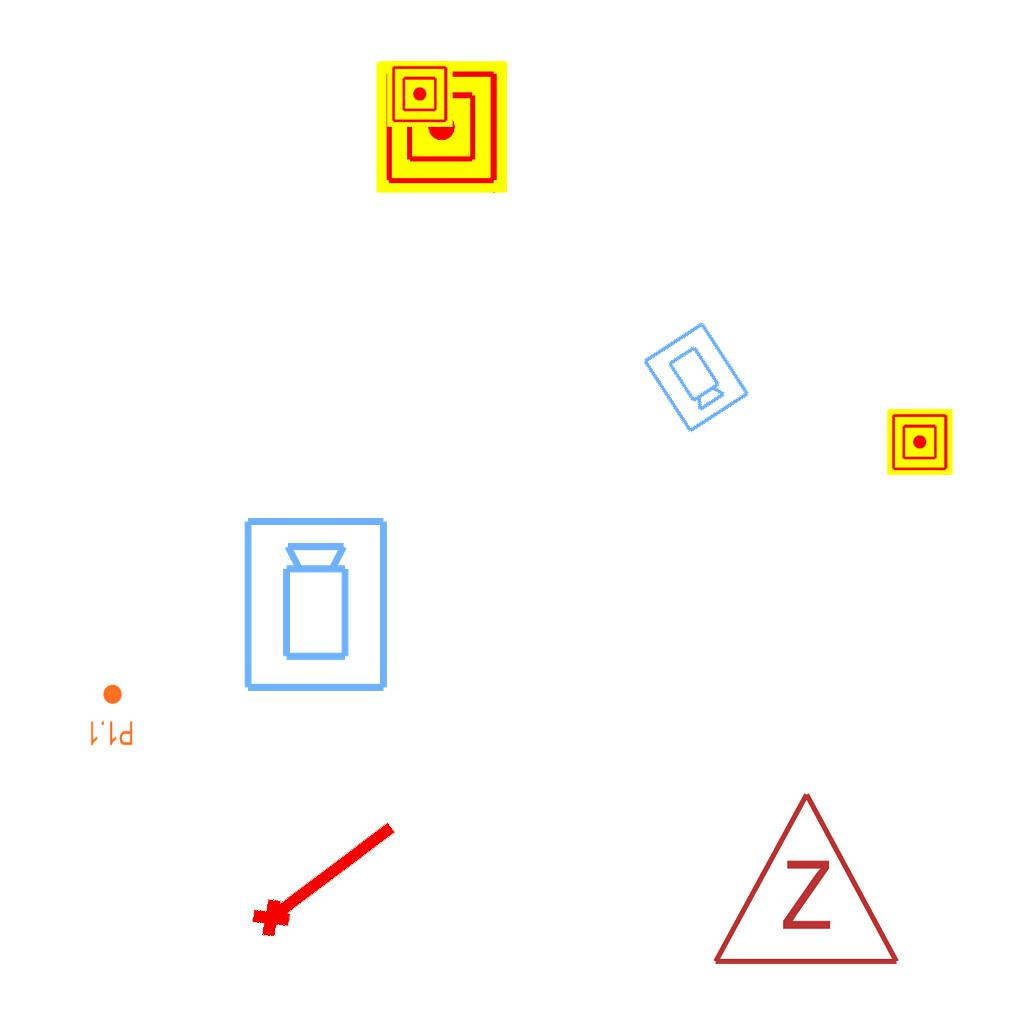ASR_Ansaugoeffnung: (239, 803, 409, 947)
Downlight_LED_Einbauleuchten_Flur: (88, 683, 134, 747)
KFO_Kamera_mit_Festobjektiv: (240, 514, 394, 696), (638, 318, 753, 437)
NAM-Nichtautomatischer_Melder: (376, 61, 508, 193), (887, 409, 953, 475), (387, 61, 453, 127)
Zimmersignalleuchte: (706, 779, 902, 979)
